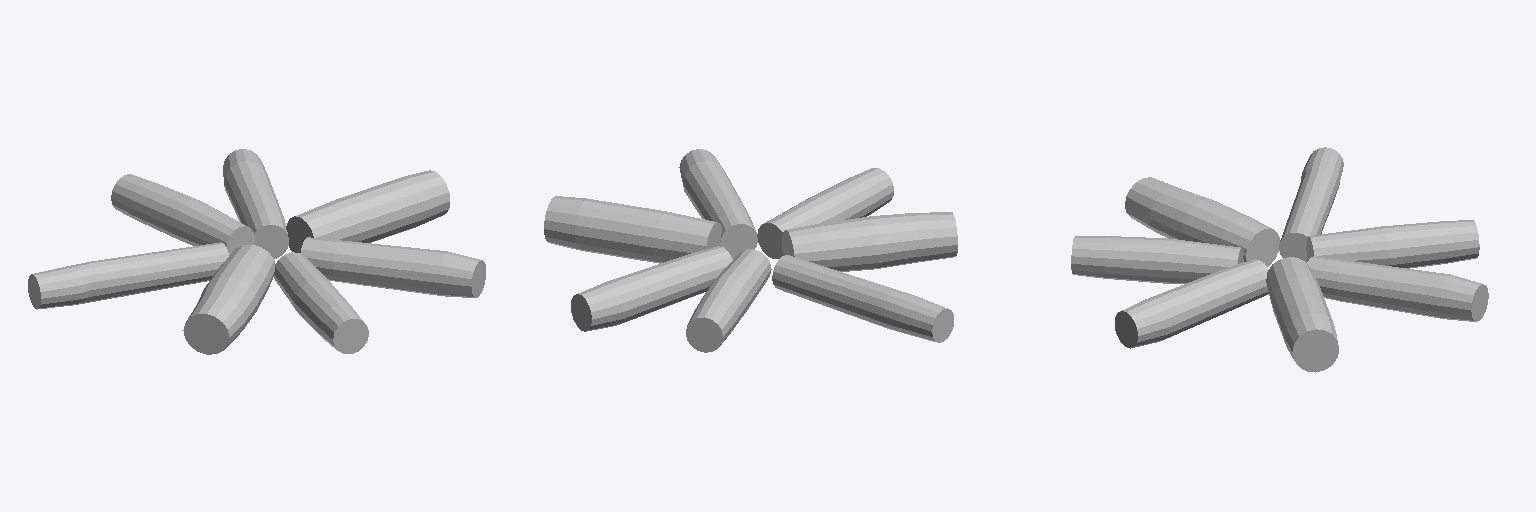
Rendered from Campfire_Star.obj.
3 renders of one model, left to right at view 1: azimuth 30°, elevation 25°; view 2: azimuth 150°, elevation 25°; view 3: azimuth 270°, elevation 25°, orthographic.
Visible parts, largest first — view 1: Cylinder.039_Cylinder.041, Cylinder.038_Cylinder.040, Cylinder.035_Cylinder.037, Cylinder.033_Cylinder.035, Cylinder.034_Cylinder.036, Cylinder.040_Cylinder.042, Cylinder.036_Cylinder.038; view 2: Cylinder.035_Cylinder.037, Cylinder.033_Cylinder.035, Cylinder.038_Cylinder.040, Cylinder.036_Cylinder.038, Cylinder.040_Cylinder.042, Cylinder.034_Cylinder.036, Cylinder.039_Cylinder.041; view 3: Cylinder.036_Cylinder.038, Cylinder.033_Cylinder.035, Cylinder.039_Cylinder.041, Cylinder.040_Cylinder.042, Cylinder.034_Cylinder.036, Cylinder.035_Cylinder.037, Cylinder.038_Cylinder.040.
Boxes of the visible parts, <box> form: Cylinder.039_Cylinder.041: <box>300,237,485,297</box>; Cylinder.038_Cylinder.040: <box>28,242,228,309</box>; Cylinder.035_Cylinder.037: <box>286,170,449,252</box>; Cylinder.033_Cylinder.035: <box>183,245,274,354</box>; Cylinder.034_Cylinder.036: <box>111,174,254,255</box>; Cylinder.040_Cylinder.042: <box>274,252,368,353</box>; Cylinder.036_Cylinder.038: <box>223,149,288,258</box>; Cylinder.035_Cylinder.037: <box>544,196,721,263</box>; Cylinder.033_Cylinder.035: <box>782,212,957,271</box>; Cylinder.038_Cylinder.040: <box>772,255,953,342</box>; Cylinder.036_Cylinder.038: <box>571,246,732,331</box>; Cylinder.040_Cylinder.042: <box>757,168,893,258</box>; Cylinder.034_Cylinder.036: <box>686,249,771,352</box>; Cylinder.039_Cylinder.041: <box>679,149,757,258</box>; Cylinder.036_Cylinder.038: <box>1307,256,1488,321</box>; Cylinder.033_Cylinder.035: <box>1125,177,1279,266</box>; Cylinder.039_Cylinder.041: <box>1115,259,1268,348</box>; Cylinder.040_Cylinder.042: <box>1071,236,1243,283</box>; Cylinder.034_Cylinder.036: <box>1306,220,1479,268</box>; Cylinder.035_Cylinder.037: <box>1266,257,1338,372</box>; Cylinder.038_Cylinder.040: <box>1279,147,1343,262</box>.
Bounding box in the file's own units: 1.62 × 0.1957 × 1.46.